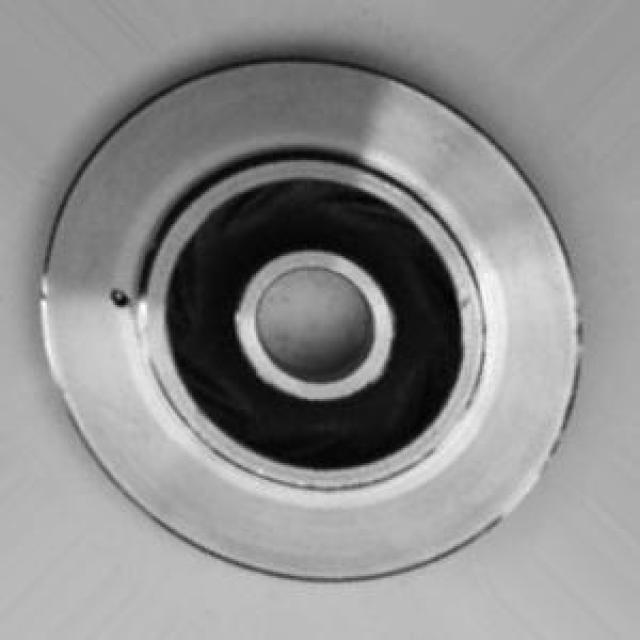Defect: (105, 285, 136, 313)
